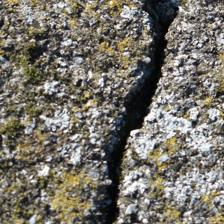Crack: (40, 2, 144, 214)
